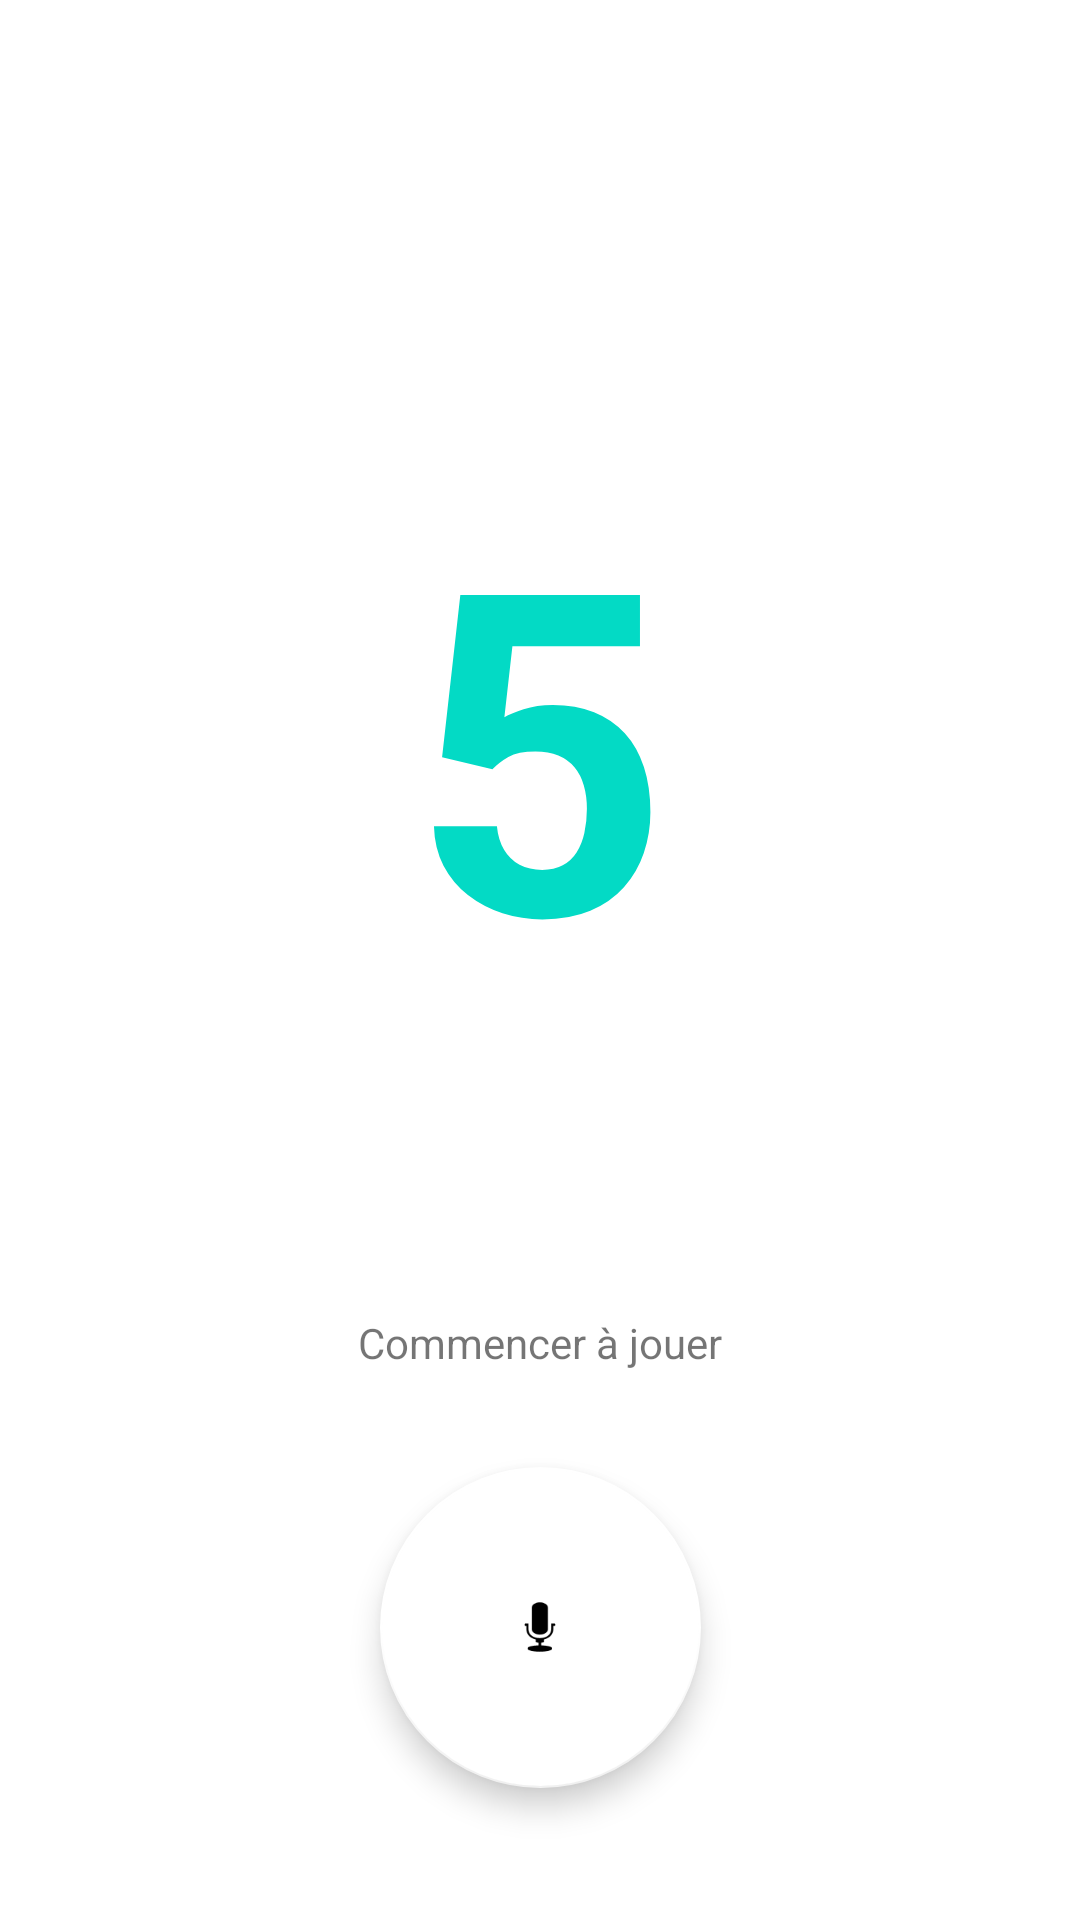

Named icons in this screenshot (1080 x 1920) and their centers, point (x, y):
speak now: point (540, 1695)
